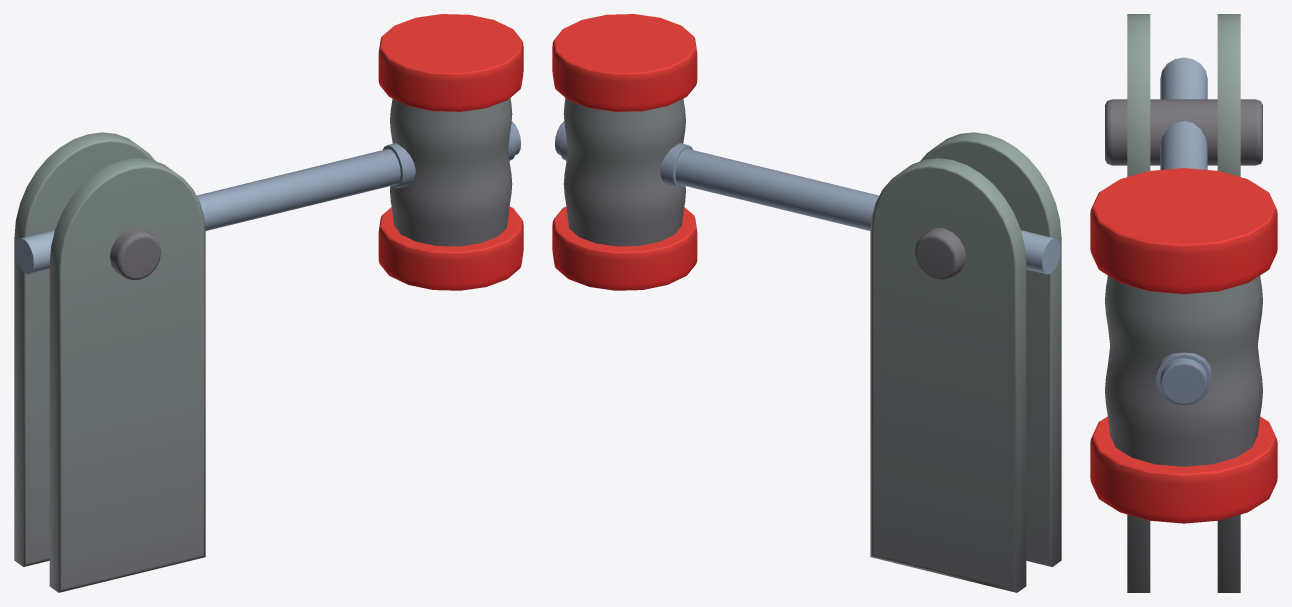
The model's file is Obs_10.fbx.
3 renders of one model, left to right at view 1: azimuth 30°, elevation 25°; view 2: azimuth 150°, elevation 25°; view 3: azimuth 270°, elevation 25°, orthographic. The views are drawn at different scales.
Visible parts, largest first — view 1: Obs_10_Base, Obs_10_Hammer, Obs_10_Hammer_01; view 2: Obs_10_Base, Obs_10_Hammer, Obs_10_Hammer_01; view 3: Obs_10_Hammer, Obs_10_Base, Obs_10_Hammer_01.
Boxes of the visible parts, left/top/right/bottom form: Obs_10_Base: left=14, top=132, right=205, bottom=592; Obs_10_Hammer: left=378, top=14, right=523, bottom=290; Obs_10_Hammer_01: left=15, top=121, right=520, bottom=274; Obs_10_Base: left=870, top=132, right=1061, bottom=592; Obs_10_Hammer: left=552, top=14, right=697, bottom=290; Obs_10_Hammer_01: left=555, top=121, right=1060, bottom=274; Obs_10_Hammer: left=1090, top=168, right=1277, bottom=523; Obs_10_Base: left=1105, top=14, right=1262, bottom=592; Obs_10_Hammer_01: left=1155, top=57, right=1212, bottom=405.
Size of the model in its own units: 3.1 by 2.61 by 0.8015.
